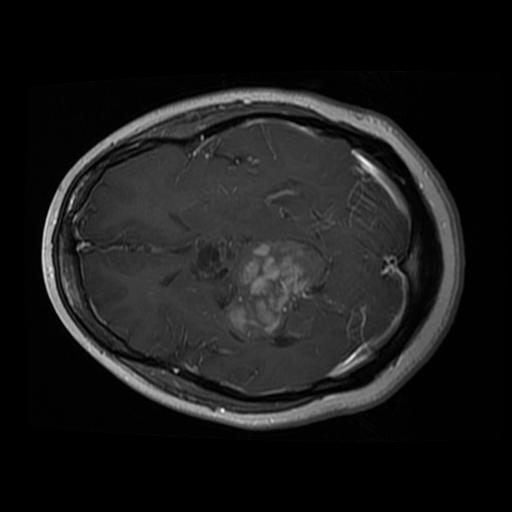glioma: (222, 236, 326, 342)
